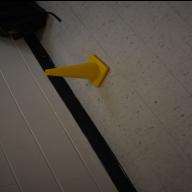cone: (45, 53, 109, 87)
